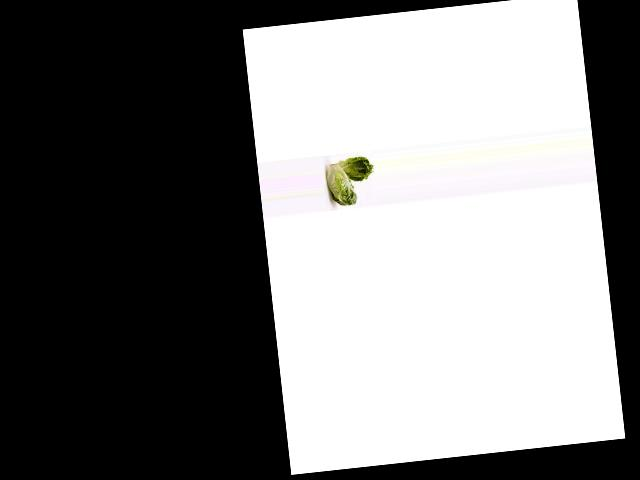lettuce: (323, 158, 360, 210)
